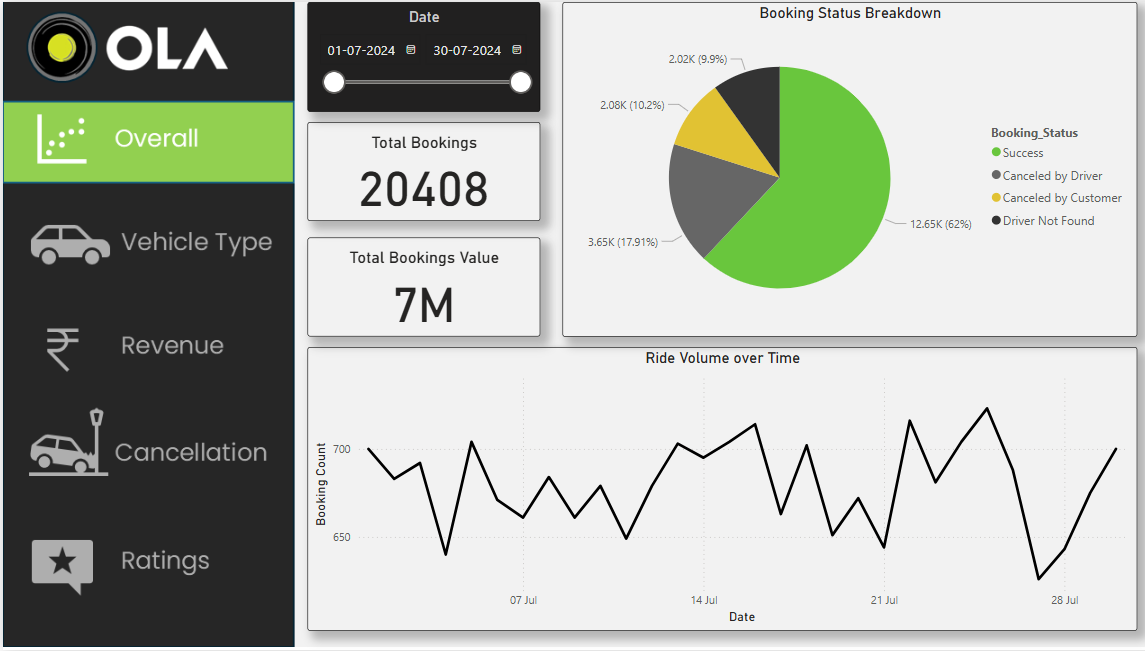

The page's visual inventory and layout, read from the dashboard file:
{"tool":"powerbi","page":{"name":"Overall","canvas":[1280,720],"ordinal":0},"visuals":[{"type":"actionButton","box":[0,221.2,323.7,94.3],"z":0},{"type":"actionButton","box":[0,336.7,323.7,94.3],"z":1000},{"type":"actionButton","box":[0,447.3,323.7,94.3],"z":2000},{"type":"actionButton","box":[0,574.2,323.7,94.3],"z":3000},{"type":"lineChart","title":"Ride Volume over Time","fields":{"Y":["CountNonNull(July.Booking_ID)"],"Category":["July.Date"]},"box":[338.3,383.3,921.7,315],"z":4000},{"type":"pieChart","title":"Booking Status Breakdown","fields":{"Category":["July.Booking_Status"],"Y":["CountNonNull(July.Booking_Status)"]},"box":[621.7,0,638.3,371.7],"z":5000},{"type":"slicer","title":"Date","fields":{"Values":["July.Date"]},"box":[338.3,0,258.3,121.7],"z":6000},{"type":"card","title":"Total Bookings","fields":{"Values":["Count(July.Booking_ID)"]},"box":[338.3,133.3,258.3,110],"z":7000},{"type":"card","title":"Total Bookings Value","fields":{"Values":["Sum(July.Booking_Value)"]},"box":[338.3,261.7,258.3,110],"z":8000}]}

Visuals, with their boxes in screenshot pixels (x1, y1, x2, y2), scaled from the page's 1280x720 canvas onto the 1145x651 screenshot:
actionButton: {"left": 0, "top": 200, "right": 290, "bottom": 285}
actionButton: {"left": 0, "top": 304, "right": 290, "bottom": 390}
actionButton: {"left": 0, "top": 404, "right": 290, "bottom": 490}
actionButton: {"left": 0, "top": 519, "right": 290, "bottom": 604}
"Ride Volume over Time" lineChart: {"left": 303, "top": 347, "right": 1127, "bottom": 631}
"Booking Status Breakdown" pieChart: {"left": 556, "top": 0, "right": 1127, "bottom": 336}
"Date" slicer: {"left": 303, "top": 0, "right": 534, "bottom": 110}
"Total Bookings" card: {"left": 303, "top": 121, "right": 534, "bottom": 220}
"Total Bookings Value" card: {"left": 303, "top": 237, "right": 534, "bottom": 336}
